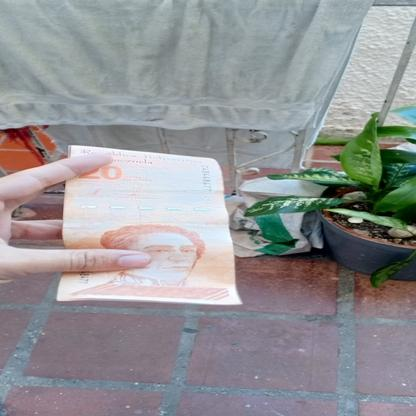twenty-front-vef: (54, 144, 241, 306)
